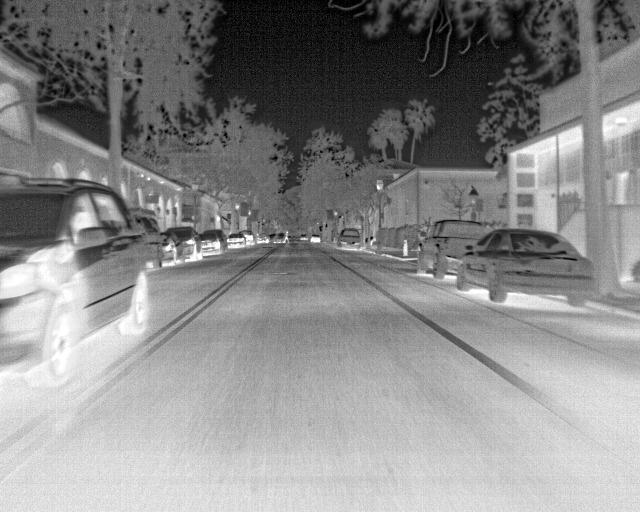bicycle: (1, 175, 155, 395), (453, 225, 595, 309), (414, 217, 488, 281), (128, 202, 162, 268), (161, 225, 201, 260), (196, 228, 226, 256), (158, 229, 180, 263), (337, 227, 365, 250), (227, 233, 246, 250), (240, 229, 255, 245), (271, 232, 287, 246)
